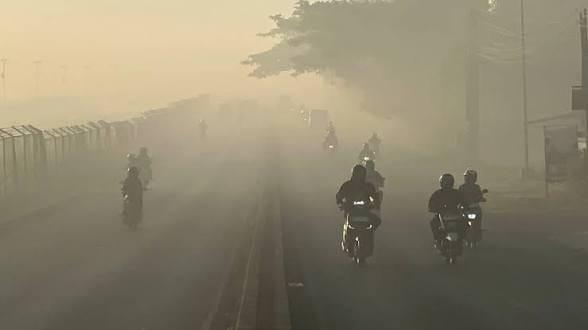Deteksi-Objek-Citra-Berasap: (0, 0, 588, 330)
Gedung: (524, 84, 588, 197)
Kendaraan: (341, 194, 382, 264), (431, 205, 470, 265), (459, 196, 486, 248), (121, 189, 142, 230), (306, 100, 329, 129), (357, 150, 378, 173), (133, 167, 151, 191), (323, 137, 339, 153)
Manusia: (335, 164, 383, 223), (428, 173, 469, 227), (459, 169, 487, 213), (120, 166, 144, 208), (360, 158, 385, 193), (133, 146, 153, 180), (364, 133, 382, 162), (323, 122, 338, 144)
Vegetasi: (240, 0, 460, 91)
